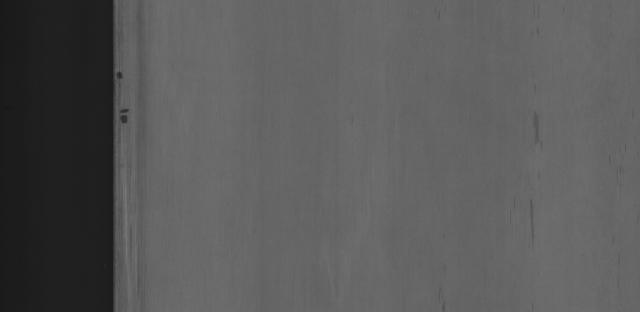oil_spot: (116, 104, 134, 133), (114, 66, 127, 82)
water_spot: (524, 99, 547, 244)
